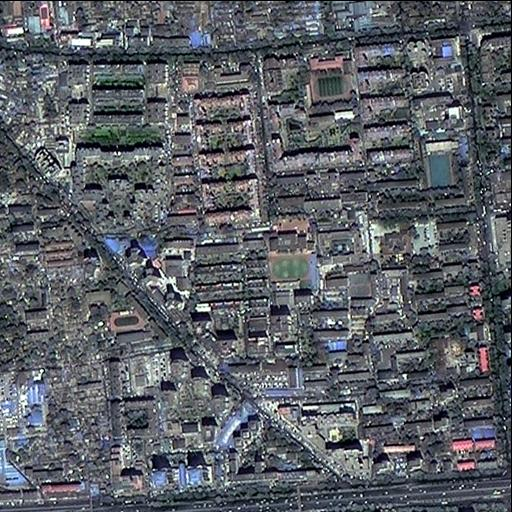school: (417, 132, 465, 194), (307, 52, 358, 104), (107, 305, 156, 344), (321, 261, 371, 299)
